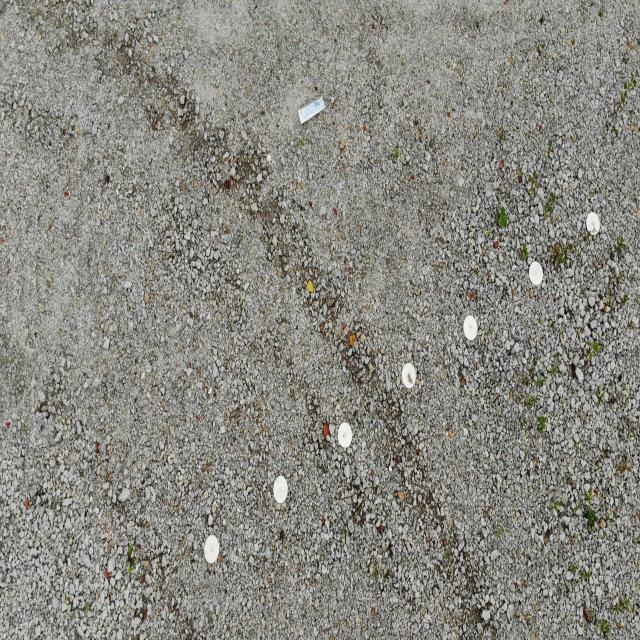rubbish: (298, 94, 326, 126)
